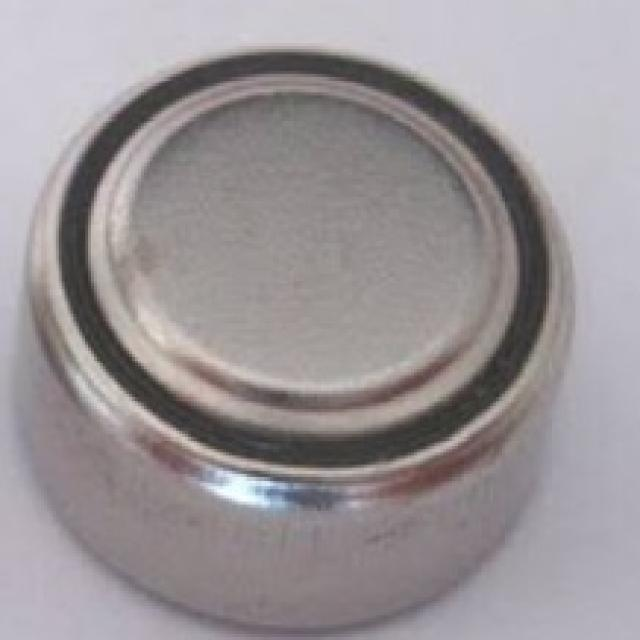battery: (11, 0, 640, 634)
